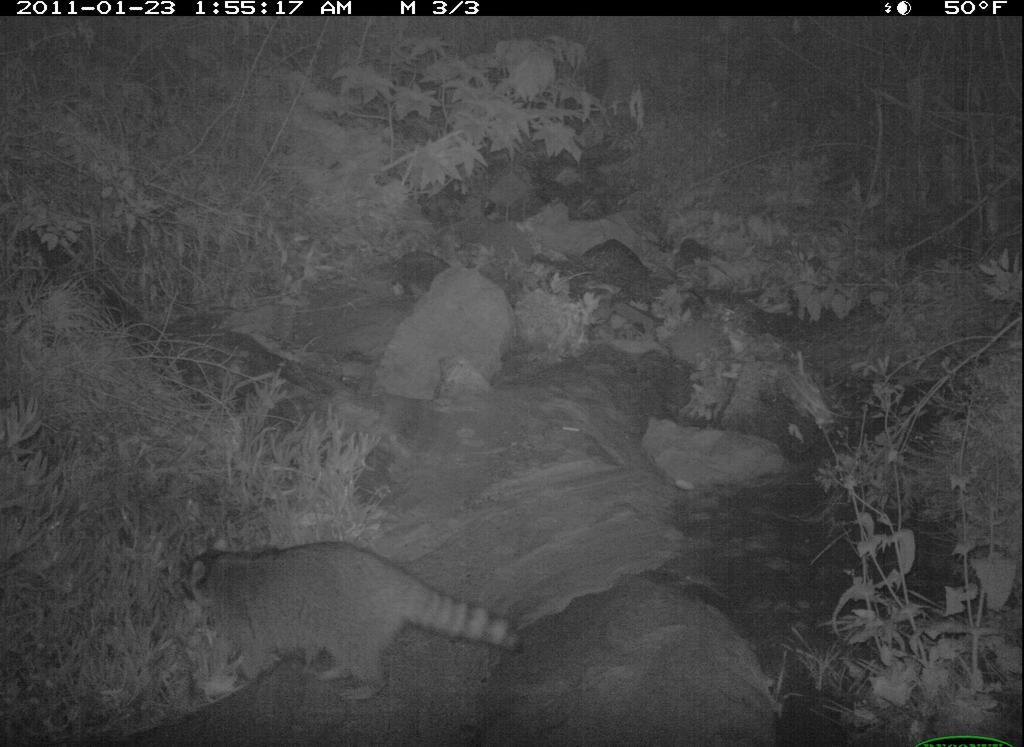raccoon: (152, 537, 521, 706)
